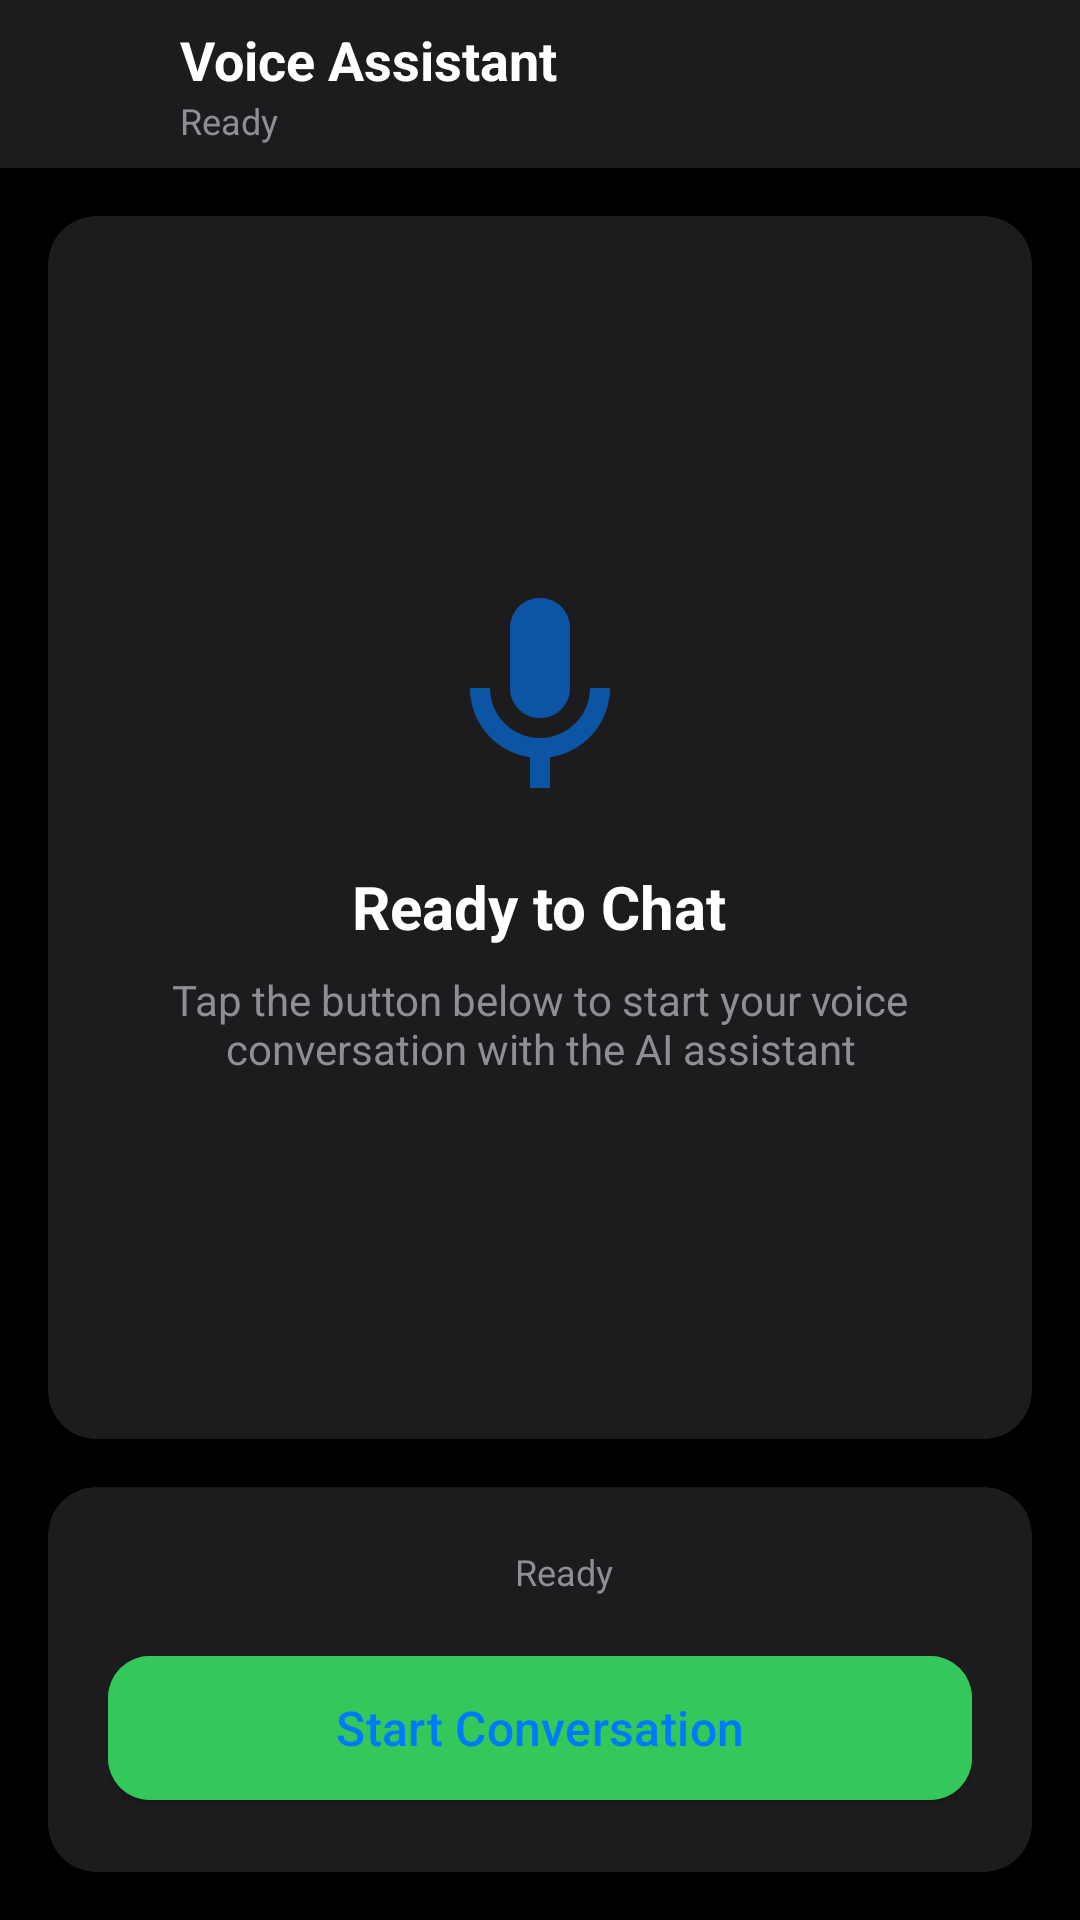

Screen size 1080×1920. Icon name, then its center in pixels as (x,y):
Microphone Icon: (540,693)
